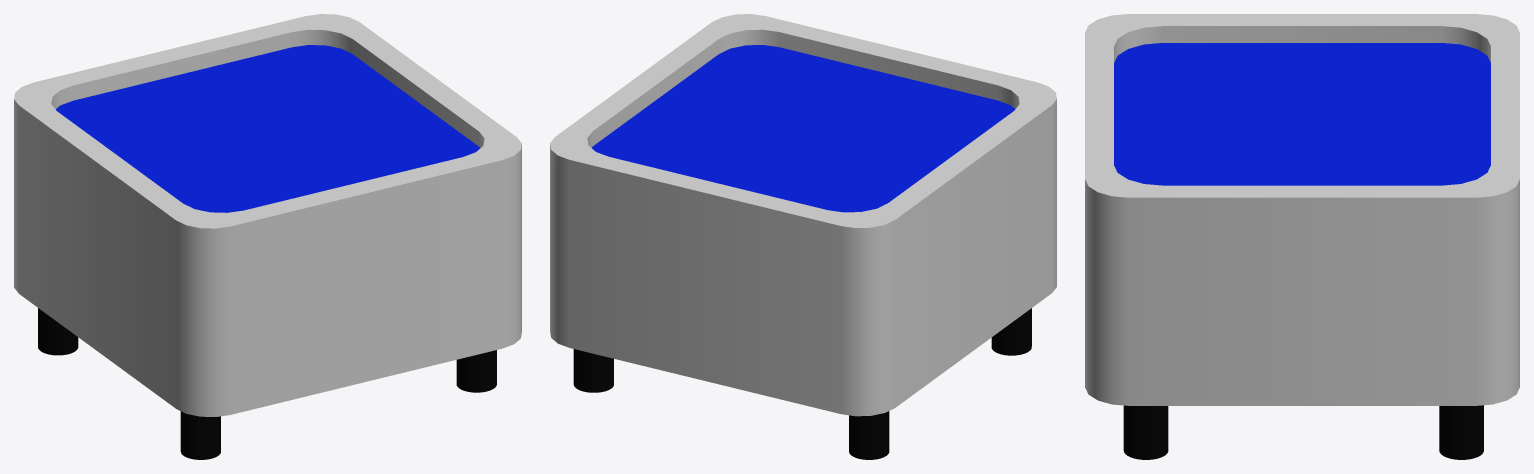
3 views of the same model, side by side, from view 1: azimuth 30°, elevation 25°; view 2: azimuth 150°, elevation 25°; view 3: azimuth 270°, elevation 25° (orthographic). The views are drawn at different scales.
Parts seen in each view (by area): view 1: Bath; view 2: Bath; view 3: Bath.
Part boxes in pixels (x1,y1,x2,y2): Bath: (14,14,521,459); Bath: (550,14,1056,459); Bath: (1085,14,1519,459).
Size of the model in its own units: 200 by 137 by 200.
